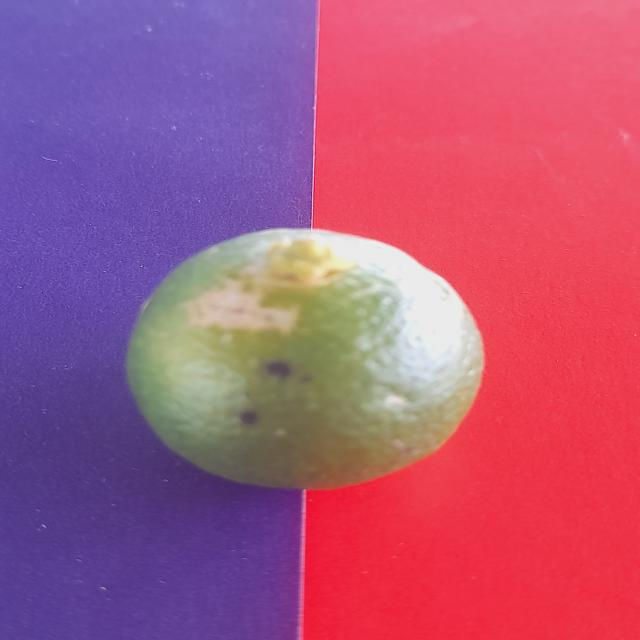thrips: (124, 227, 493, 488)
